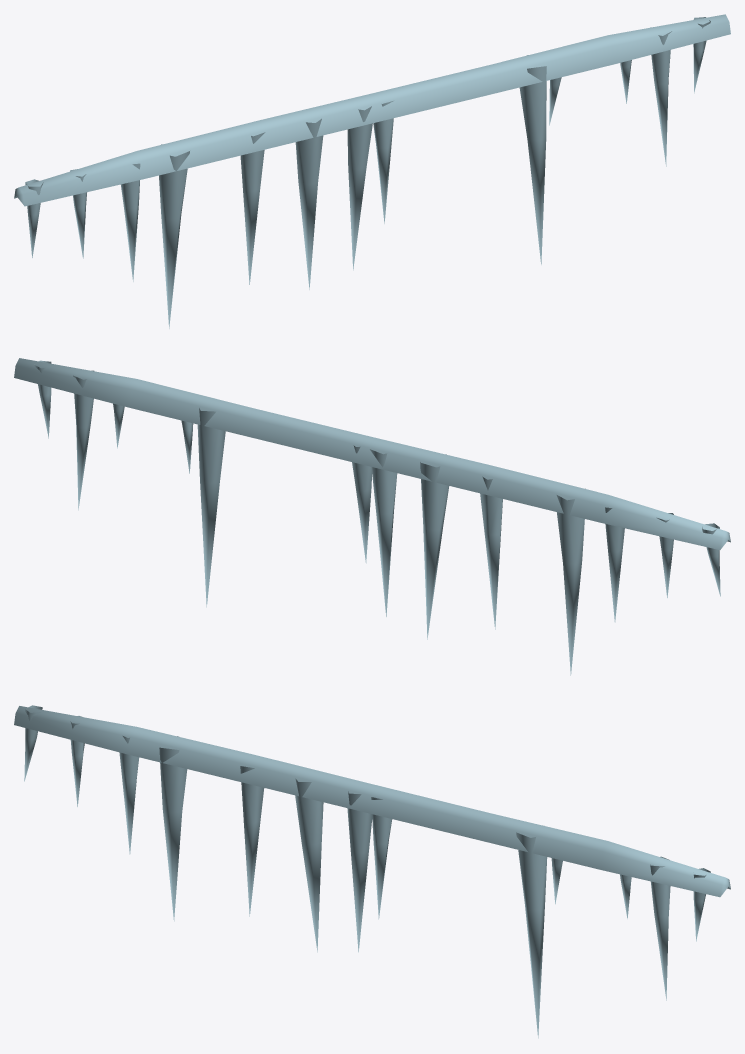
Rendered from icicles.glb.
The picture shows the model from 3 angles, top to bottom: view 1: azimuth 30°, elevation 25°; view 2: azimuth 150°, elevation 25°; view 3: azimuth 330°, elevation 25°; orthographic projection.
Parts seen in each view (by area): view 1: Icicles; view 2: Icicles; view 3: Icicles.
Boxes of the visible parts, <box> form: Icicles: <box>14,14,730,328</box>; Icicles: <box>14,358,730,675</box>; Icicles: <box>14,705,730,1038</box>.
Size of the model in its own units: 2.02 by 0.5795 by 0.0831.
